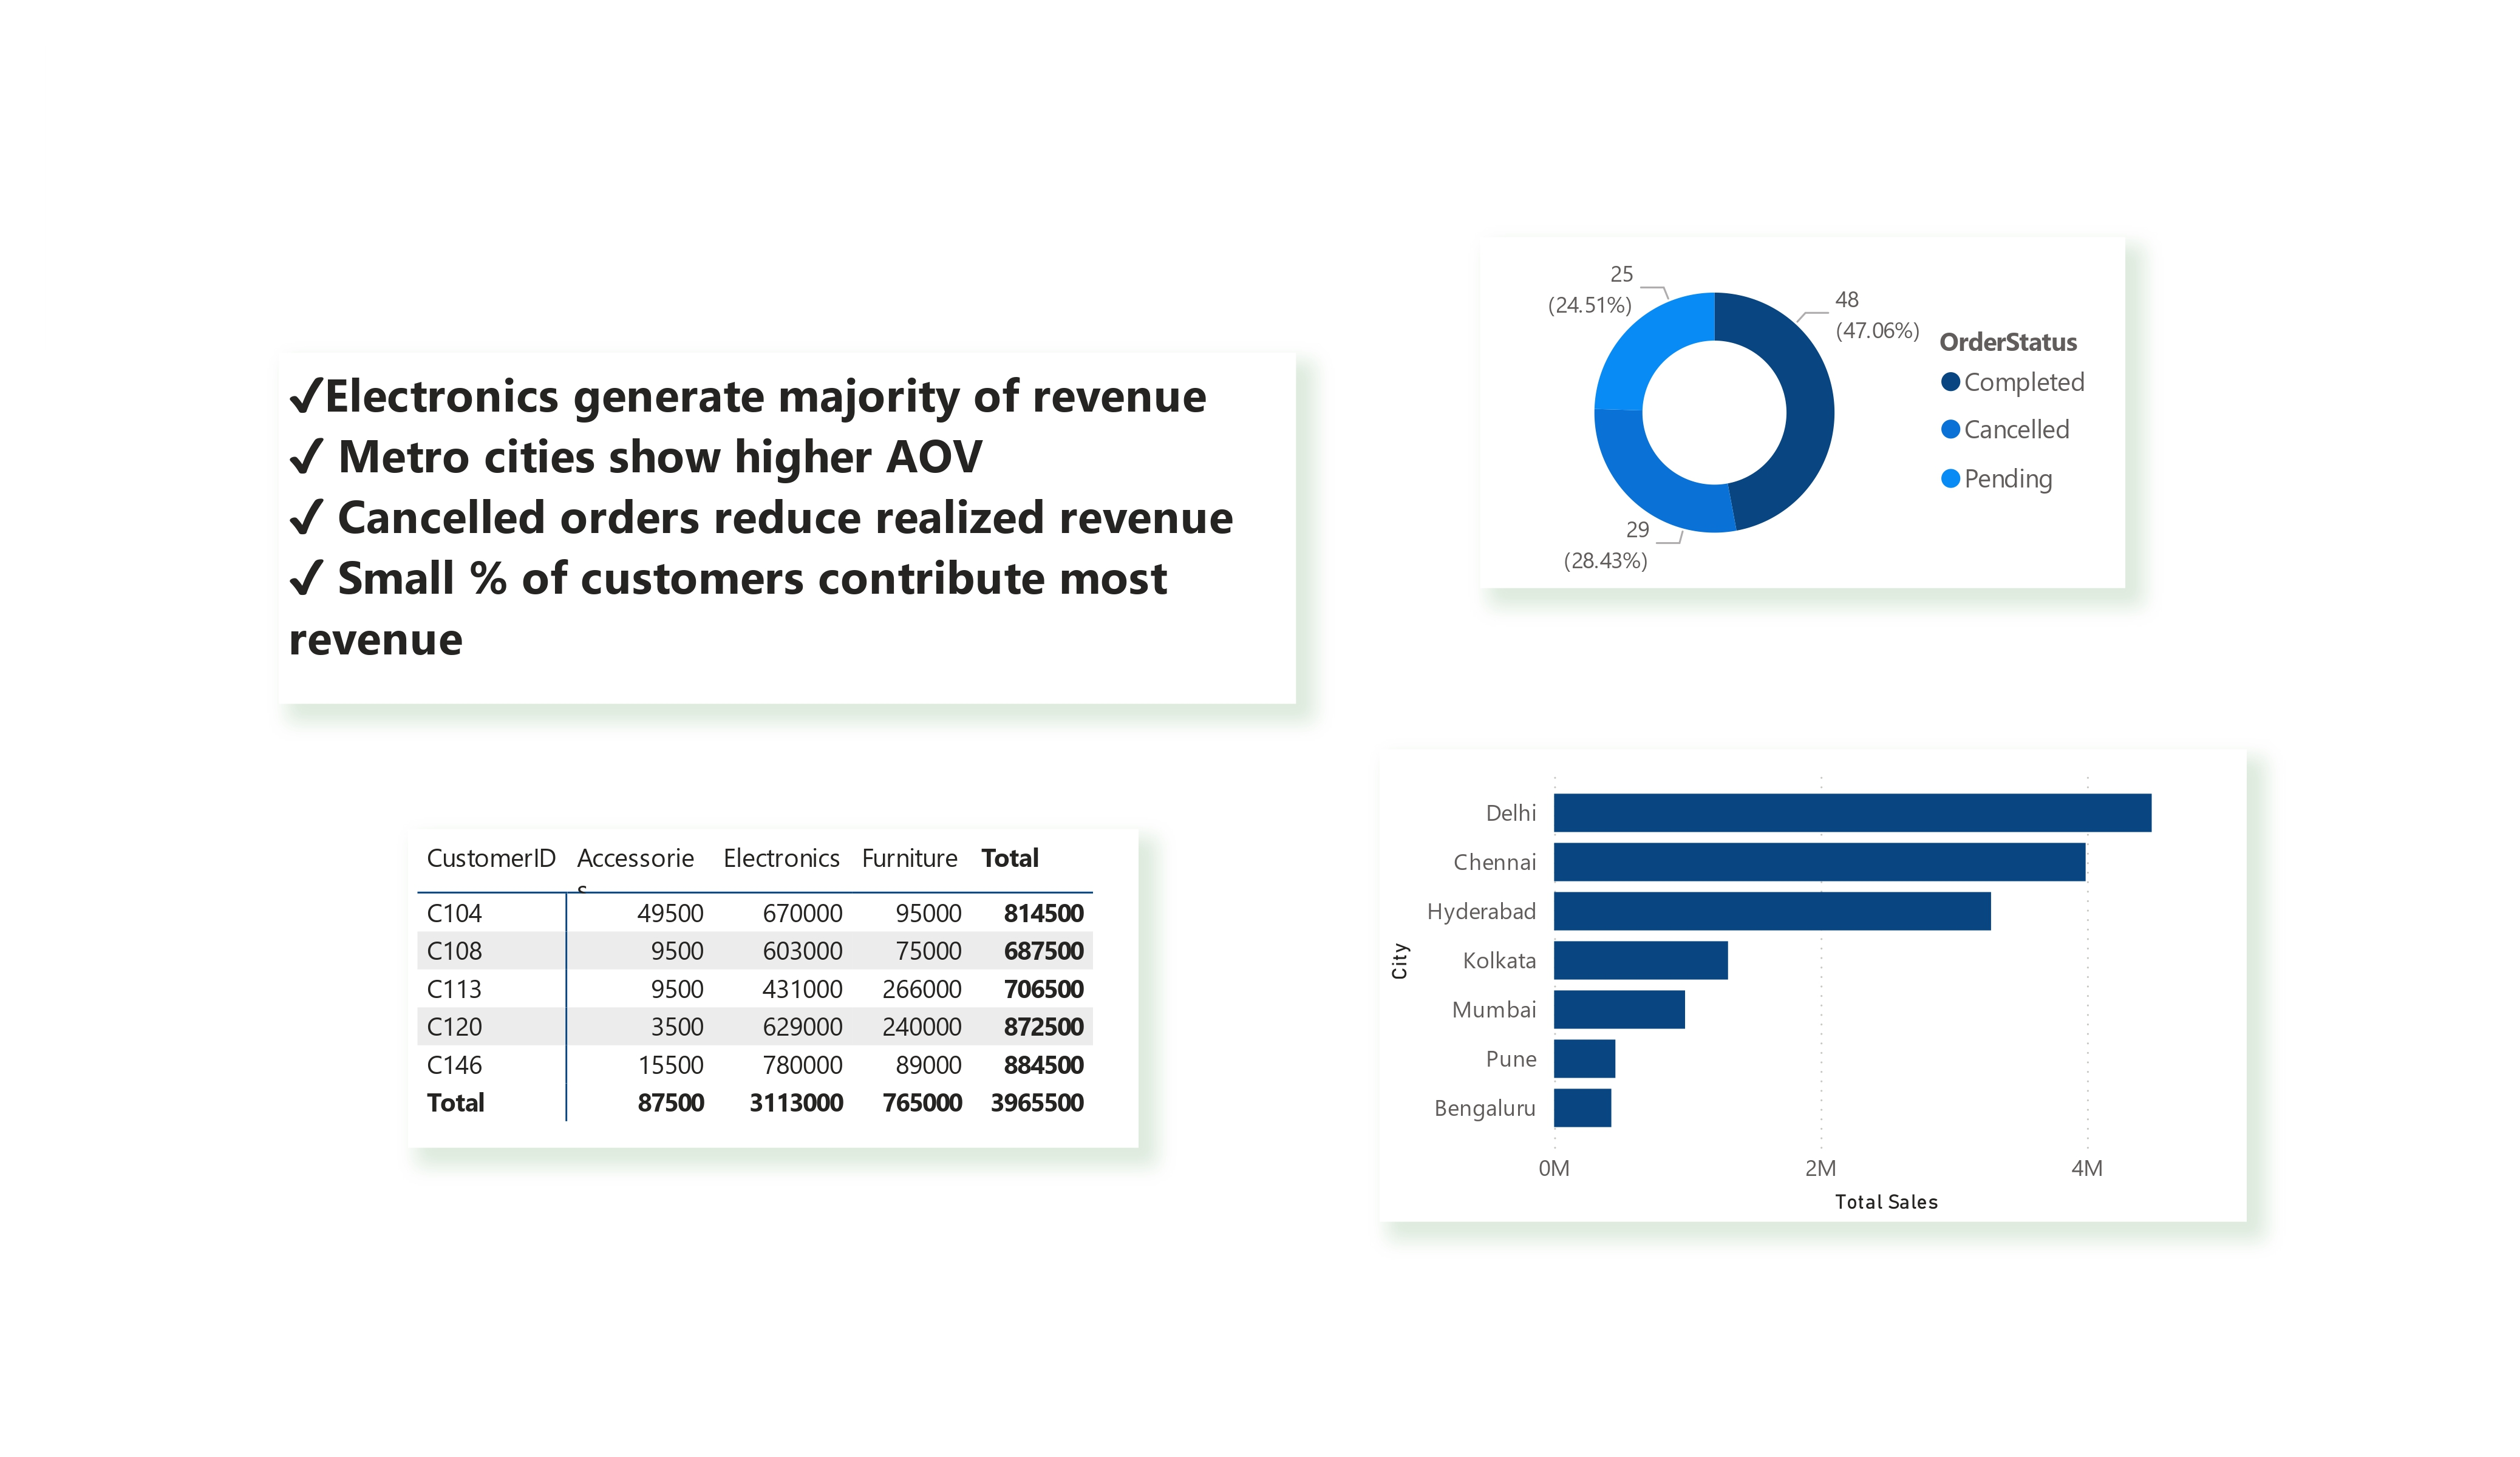

This screenshot's page, from the dashboard's own definition file:
{"tool":"powerbi","page":{"name":"Customer Insights","canvas":[1280,720],"ordinal":1},"visuals":[{"type":"barChart","fields":{"Category":["Customers.City"],"Y":["Customers.Total Sales"]},"box":[703.5,371.4,456.9,248.6],"z":0},{"type":"pivotTable","fields":{"Rows":["Customers.CustomerID"],"Columns":["Sales.Category"],"Values":["Sum(Sales.TotalSales)"]},"box":[190.6,412.7,385.2,168],"z":1000},{"type":"donutChart","fields":{"Category":["Orders.OrderStatus"],"Y":["Orders.Total Customers"]},"box":[755.6,101.2,340,184.7],"z":2000},{"type":"textbox","box":[122.8,162.1,536.5,184.7],"z":3000}]}

Visuals, with their boxes in screenshot pixels (x1, y1, x2, y2):
barChart - Customers.City x Customers.Total Sales: box=[1380, 750, 2247, 1221]
pivotTable - Customers.CustomerID x Sales.Category: box=[407, 829, 1138, 1147]
donutChart - Orders.OrderStatus x Orders.Total Customers: box=[1479, 237, 2125, 588]
textbox: box=[279, 353, 1296, 704]
